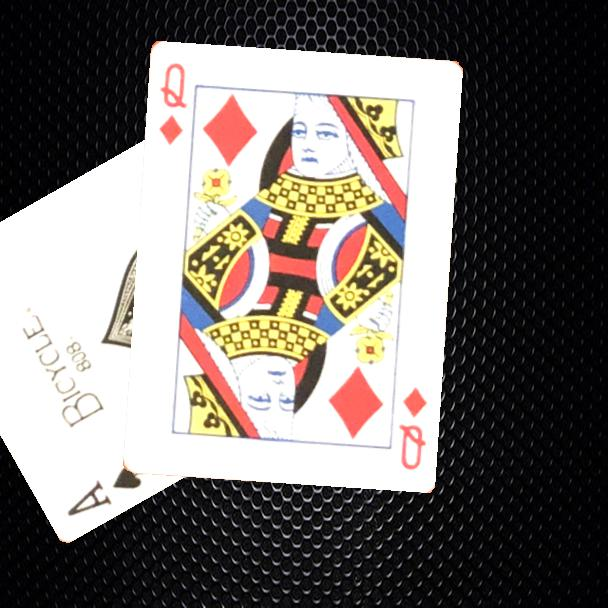d12: (394, 383, 429, 472), (156, 58, 189, 147)
s01: (63, 462, 147, 520)
